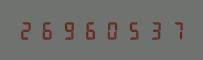five: (122, 20, 142, 40)
nine: (59, 20, 79, 40)
seven: (164, 20, 184, 40)
six: (38, 20, 58, 40), (80, 20, 100, 40)
three: (143, 20, 163, 40)
two: (17, 20, 37, 40)
zero: (101, 20, 121, 40)
